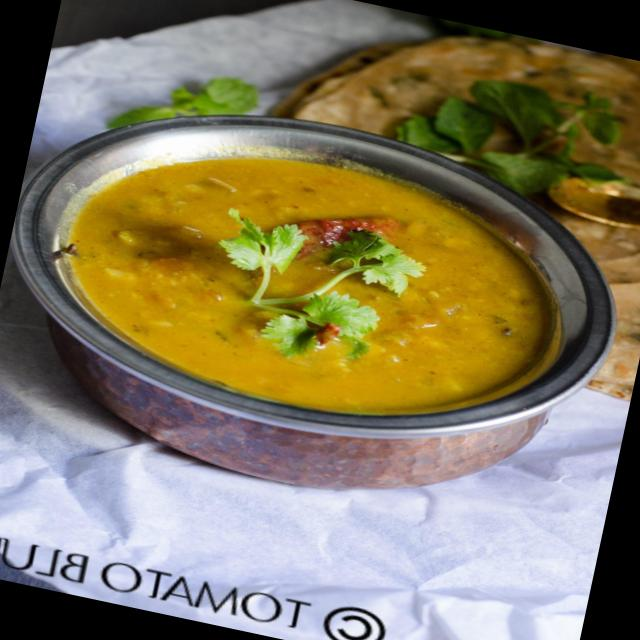dal: (45, 88, 558, 458)
